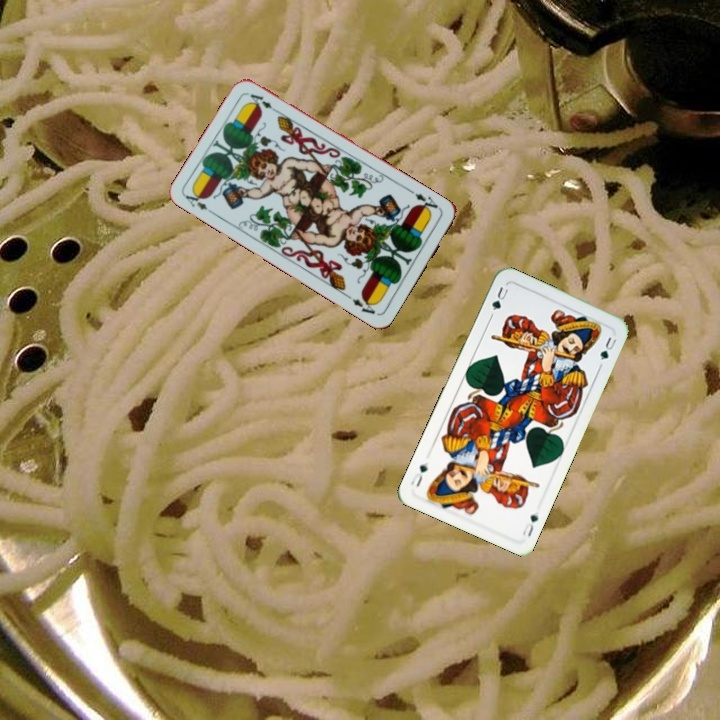EA: (181, 187, 218, 218), (411, 189, 443, 216)
GU: (488, 283, 511, 313), (518, 510, 541, 539)
